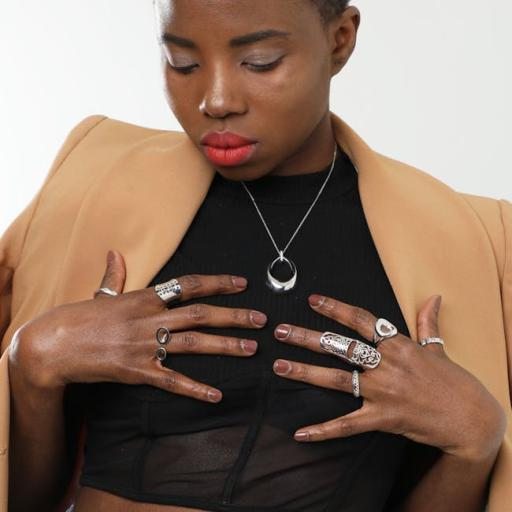lipstick: (201, 132, 255, 166)
